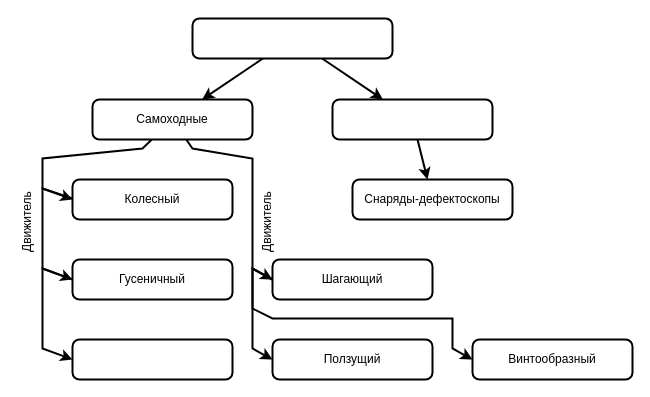
This 650x397 diagram has some shape labels left out. Here are the shapes that lost their labels. From the top down, the centre of each, then its label:
(x=292, y=38): Внутритрубные роботы
(x=412, y=119): Несамоходные
(x=152, y=359): Стенонажимной
